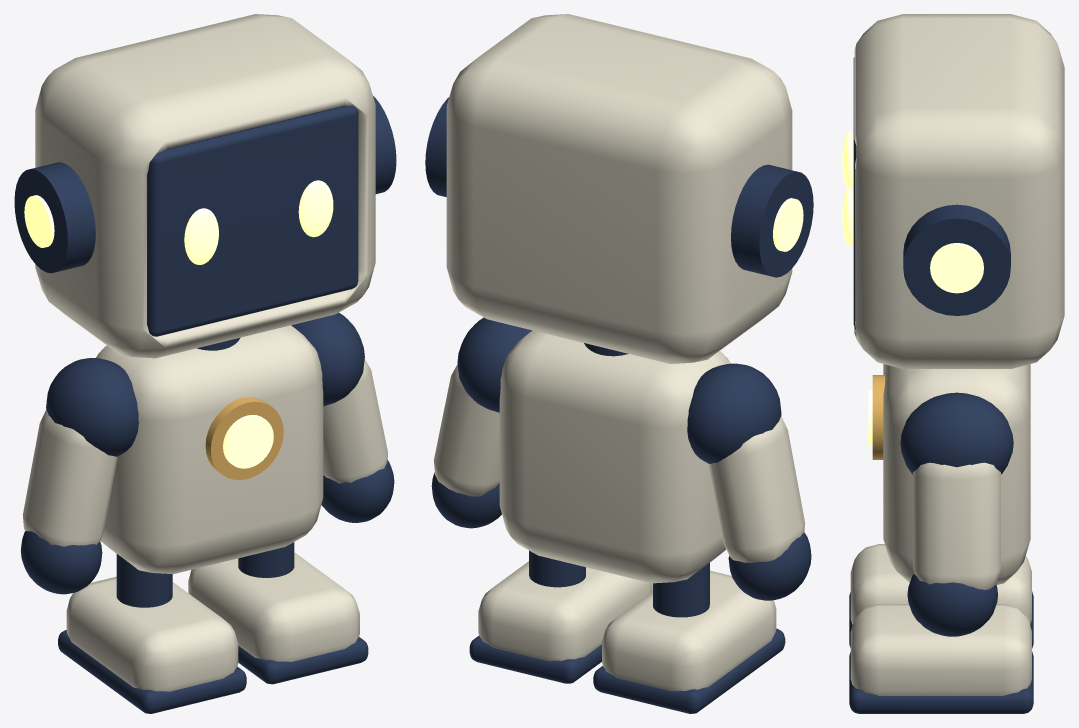
Rendered from kubo.glb.
3 views of the same model, side by side, from view 1: azimuth 30°, elevation 25°; view 2: azimuth 150°, elevation 25°; view 3: azimuth 270°, elevation 25° (orthographic).
Parts seen in each view (by area): view 1: Kubo head, Kubo torso, Kubo recessed face, Kubo boot, Kubo boot.001, Kubo arm, Kubo shoulder, Kubo ear, Kubo arm.001, Kubo shoulder.001, Kubo sole, Kubo hand (+10 smaller); view 2: Kubo head, Kubo torso, Kubo boot, Kubo boot.001, Kubo arm, Kubo shoulder, Kubo ear, Kubo arm.001, Kubo shoulder.001, Kubo sole, Kubo hand, Kubo sole.001 (+5 smaller); view 3: Kubo head, Kubo boot.001, Kubo torso, Kubo arm.001, Kubo ear.001, Kubo shoulder.001, Kubo boot, Kubo hand.001, Kubo sole.001, Kubo ear light.001, Kubo chest rim, Kubo recessed face (+2 smaller).
Boxes of the visible parts, left/top/right/bottom form: Kubo head: left=35, top=14, right=375, bottom=358; Kubo torso: left=96, top=325, right=323, bottom=574; Kubo recessed face: left=147, top=105, right=358, bottom=336; Kubo boot: left=66, top=576, right=238, bottom=691; Kubo boot.001: left=188, top=552, right=359, bottom=661; Kubo arm: left=23, top=409, right=117, bottom=546; Kubo shoulder: left=46, top=358, right=138, bottom=456; Kubo ear: left=14, top=162, right=95, bottom=273; Kubo arm.001: left=323, top=359, right=388, bottom=483; Kubo shoulder.001: left=291, top=312, right=364, bottom=406; Kubo sole: left=58, top=630, right=246, bottom=713; Kubo hand: left=21, top=531, right=102, bottom=594; Kubo head: left=446, top=14, right=792, bottom=363; Kubo torso: left=499, top=330, right=730, bottom=583; Kubo boot: left=602, top=570, right=776, bottom=691; Kubo boot.001: left=478, top=561, right=652, bottom=660; Kubo arm: left=708, top=416, right=805, bottom=562; Kubo shoulder: left=687, top=363, right=781, bottom=463; Kubo ear: left=731, top=164, right=813, bottom=277; Kubo arm.001: left=433, top=364, right=499, bottom=496; Kubo shoulder.001: left=457, top=317, right=532, bottom=412; Kubo sole: left=593, top=628, right=785, bottom=713; Kubo hand: left=728, top=532, right=811, bottom=600; Kubo sole.001: left=469, top=636, right=601, bottom=683; Kubo head: left=854, top=14, right=1064, bottom=368; Kubo boot.001: left=850, top=604, right=1031, bottom=695; Kubo torso: left=883, top=364, right=1030, bottom=584; Kubo arm.001: left=913, top=462, right=1000, bottom=590; Kubo ear.001: left=903, top=204, right=1010, bottom=315; Kubo shoulder.001: left=900, top=392, right=1013, bottom=474; Kubo boot: left=850, top=544, right=1031, bottom=624; Kubo hand.001: left=907, top=573, right=997, bottom=636; Kubo sole.001: left=849, top=651, right=1033, bottom=713; Kubo ear light.001: left=930, top=243, right=983, bottom=293; Kubo chest rim: left=872, top=375, right=885, bottom=459; Kubo recessed face: left=853, top=57, right=856, bottom=329.
Size of the model in its own units: 1.48 by 2.33 by 0.785.
